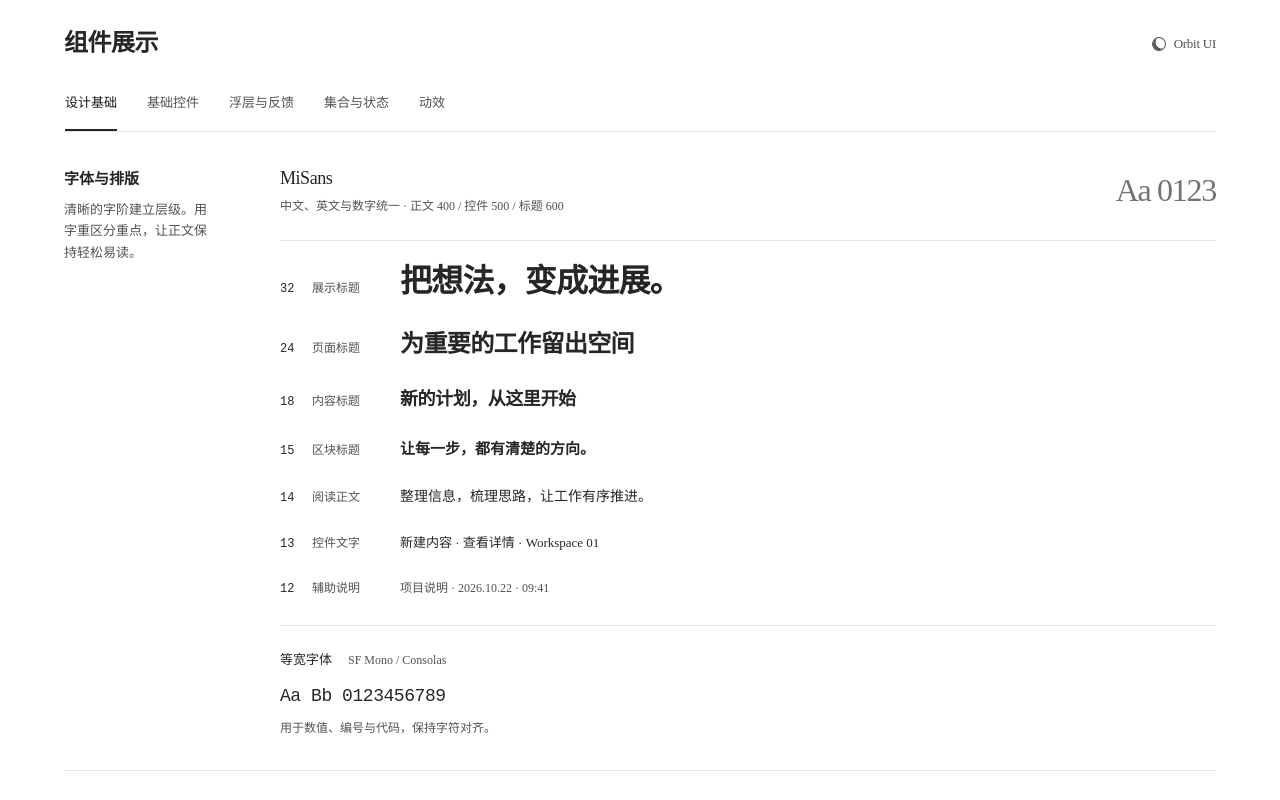
Test: minimal component gallery interactions › shows concrete feedback without duplicate titles and announces errors separately
Click the tab "浮层与反馈". click: point(262, 109)
box: [228,87,295,131]
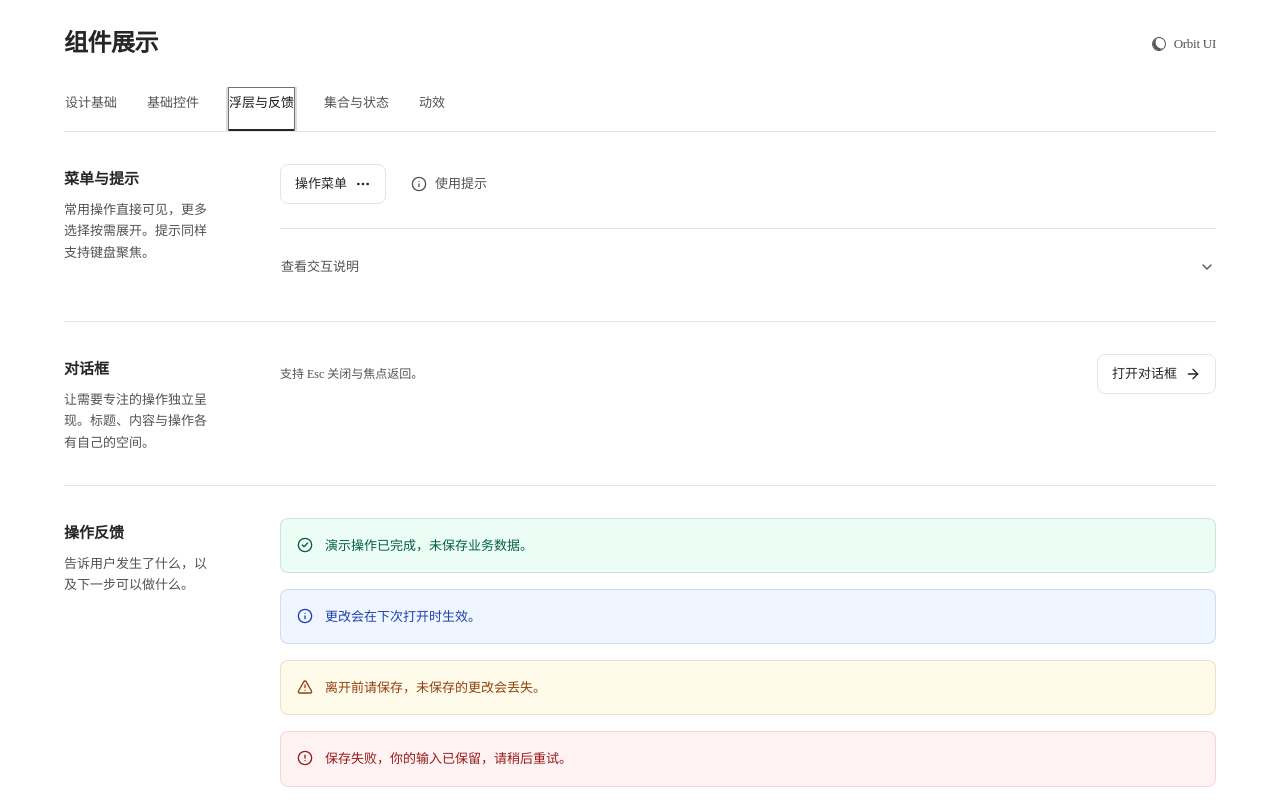
Expected: the message "保存失败，你的输入已保留，请稍后重试。" is shown, [280,731,1216,786]
Expected: the text "演示操作已完成，未保存业务数据。" is shown, [325,538,533,553]
